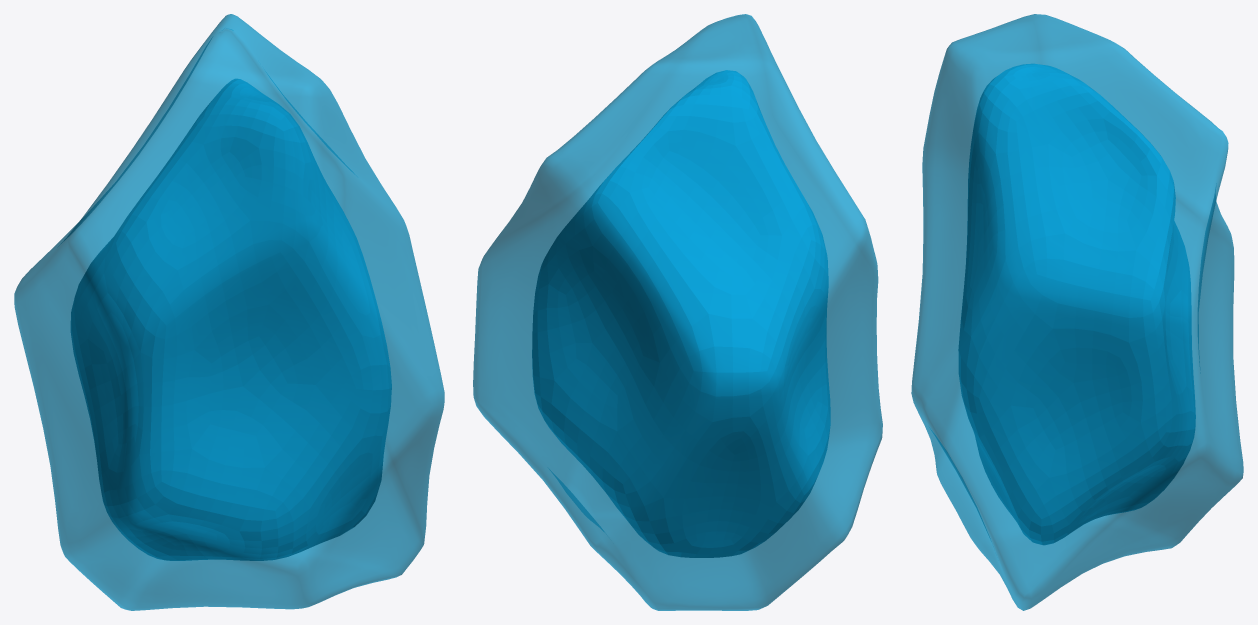
The model's file is Crystal_01.fbx.
The picture shows the model from 3 angles, left to right: view 1: azimuth 30°, elevation 25°; view 2: azimuth 150°, elevation 25°; view 3: azimuth 270°, elevation 25°; orthographic projection. The views are drawn at different scales.
Visible parts, largest first — view 1: polySurface7; view 2: polySurface7; view 3: polySurface7.
Boxes of the visible parts, box(x1,y1,x2,y2) form: polySurface7: box(14, 14, 444, 610); polySurface7: box(473, 14, 882, 610); polySurface7: box(911, 14, 1243, 610).
Bounding box in the file's own units: 3.25 × 5.06 × 2.91.
